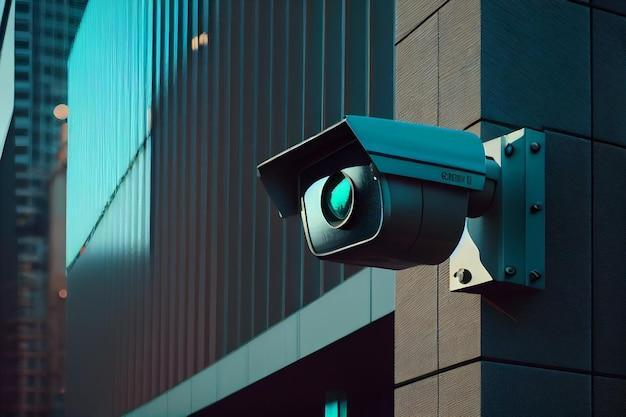camera: (211, 107, 522, 298)
